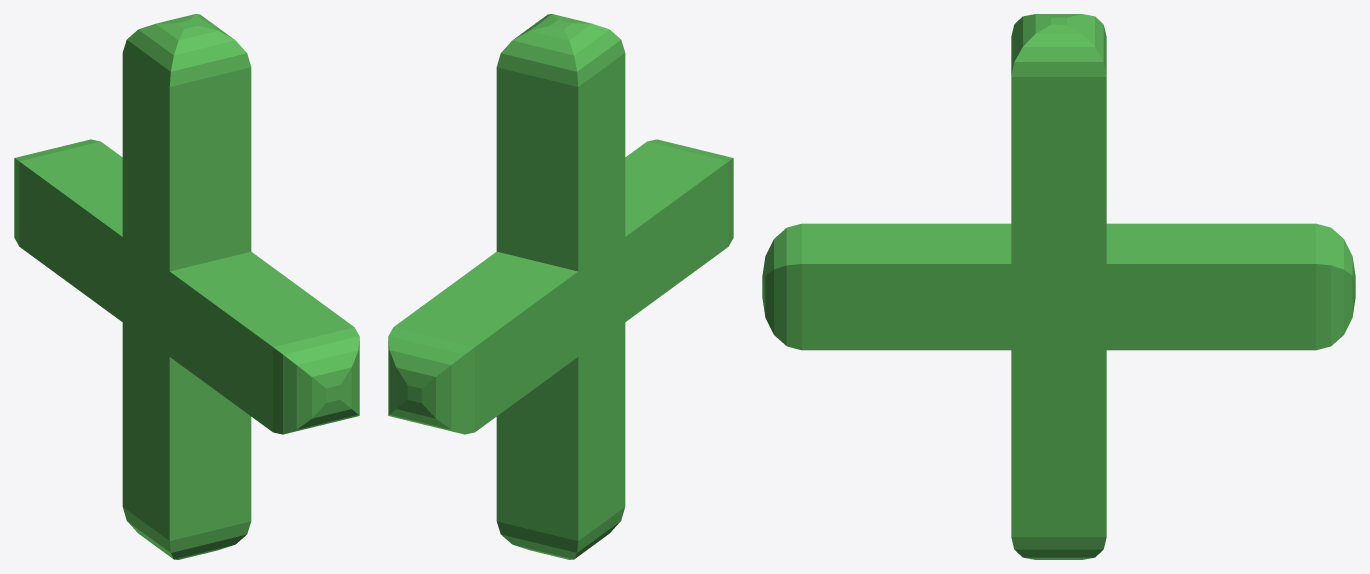
Rendered from mas.fbx.
3 renders of one model, left to right at view 1: azimuth 30°, elevation 25°; view 2: azimuth 150°, elevation 25°; view 3: azimuth 270°, elevation 25°, orthographic.
Visible parts, largest first — view 1: Mas; view 2: Mas; view 3: Mas.
Part boxes in pixels (box(x1,y1,x2,y2)): Mas: box(14, 14, 359, 559); Mas: box(388, 14, 733, 559); Mas: box(762, 14, 1355, 559).
Size of the model in its own units: 96.52 by 594 by 600.
